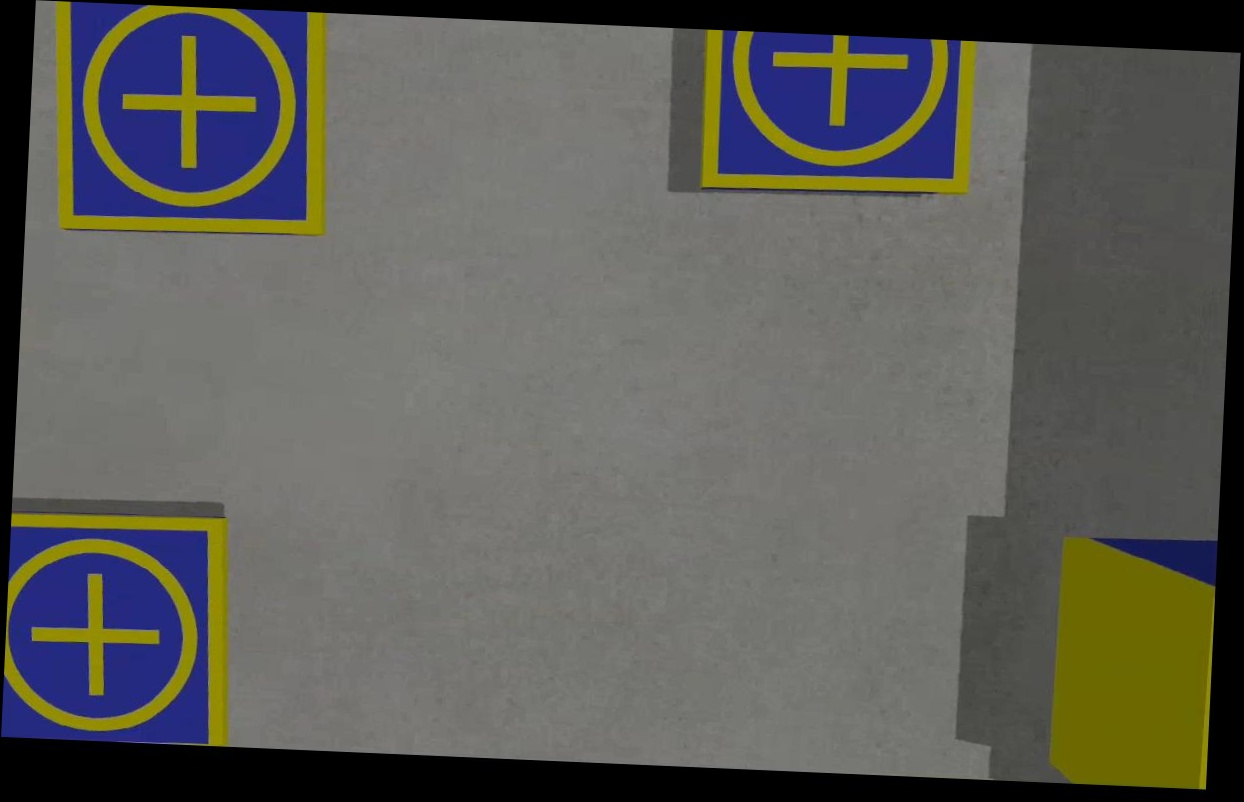small_base: (45, 1, 337, 241), (1, 507, 237, 747), (695, 29, 978, 197)
